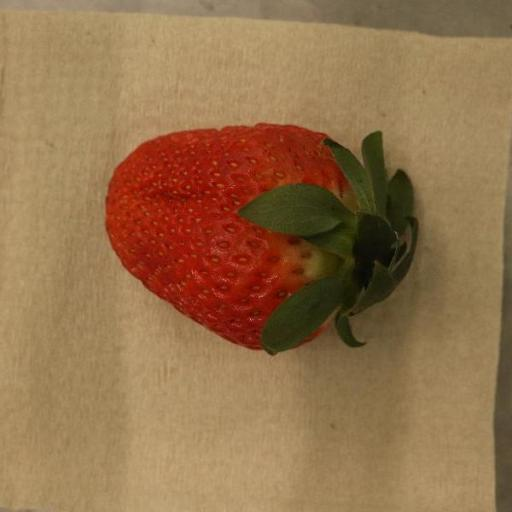Strawberry: (104, 123, 419, 357)
